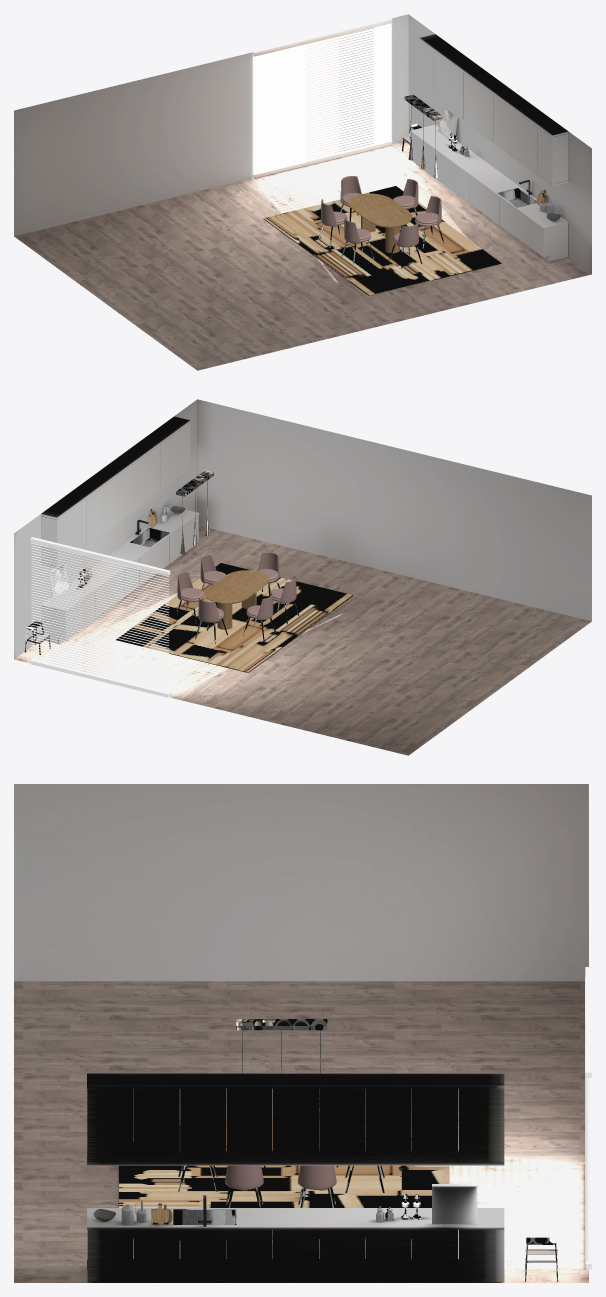
The model's file is dining-room.gltf.
3 renders of one model, top to bottom at view 1: azimuth 30°, elevation 25°; view 2: azimuth 150°, elevation 25°; view 3: azimuth 270°, elevation 25°, orthographic. The views are drawn at different scales.
Visible parts, largest first — view 1: floor, house, window, cabinet, carpet, seat, table, lighting, faucet; view 2: house, floor, cabinet, window, carpet, seat, table, lighting, faucet, painting; view 3: house, floor, cabinet, carpet, seat, window, painting, lighting, faucet, IKEA seat.
Boxes of the visible parts, box(x1,y1,x2,y2) form: floor: box(14, 141, 591, 370); house: box(14, 14, 591, 273); window: box(252, 18, 392, 178); cabinet: box(410, 34, 568, 261); carpet: box(263, 186, 501, 295); seat: box(318, 176, 444, 268); table: box(348, 193, 412, 253); lighting: box(404, 94, 442, 178); faucet: box(498, 180, 536, 207); house: box(14, 399, 591, 658); floor: box(14, 525, 591, 755); cabinet: box(41, 416, 199, 644); window: box(30, 537, 170, 697); carpet: box(116, 563, 353, 672); seat: box(174, 552, 299, 643); table: box(205, 570, 268, 629); lighting: box(176, 470, 213, 554); faucet: box(130, 520, 169, 547); painting: box(50, 562, 69, 598); house: box(14, 784, 588, 981); floor: box(14, 981, 588, 1282); cabinet: box(87, 1073, 504, 1281); carpet: box(119, 1137, 449, 1238); seat: box(178, 1089, 384, 1207); window: box(585, 967, 591, 1269); painting: box(432, 1184, 477, 1224); lighting: box(236, 1019, 327, 1120); faucet: box(173, 1195, 236, 1226); IKEA seat: box(525, 1237, 558, 1281).
Size of the model in its own units: 9.84 by 3 by 7.97.
24 materials, 23 textured.
